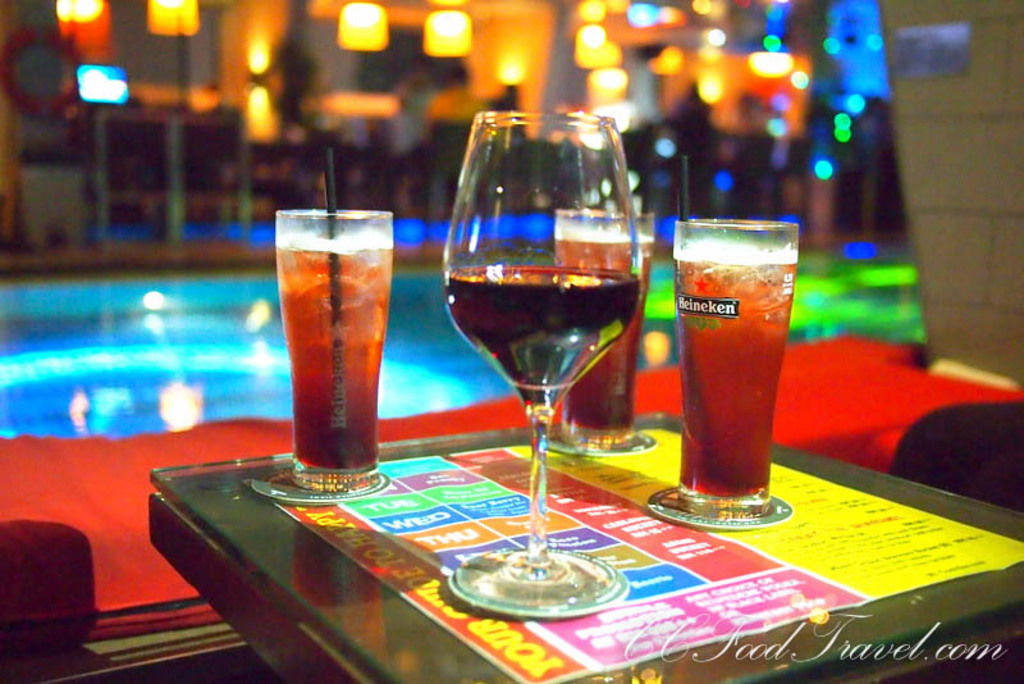Beer: (666, 245, 796, 495), (272, 224, 395, 472), (558, 224, 643, 444)
